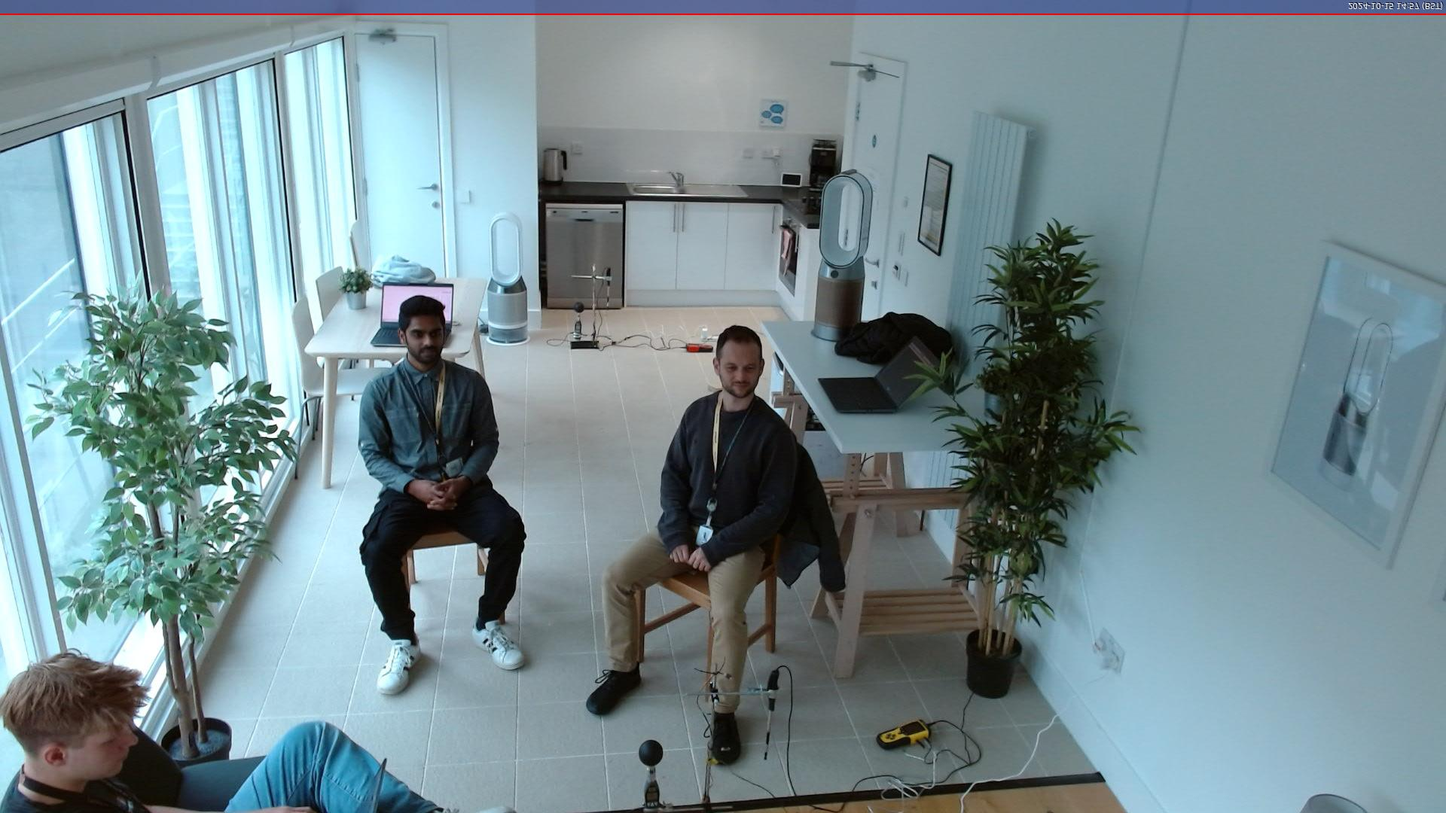long sleeve shirt: (357, 358, 505, 496)
sweater: (656, 390, 797, 568)
trousers: (598, 525, 769, 714), (355, 478, 528, 642), (221, 718, 444, 813)
